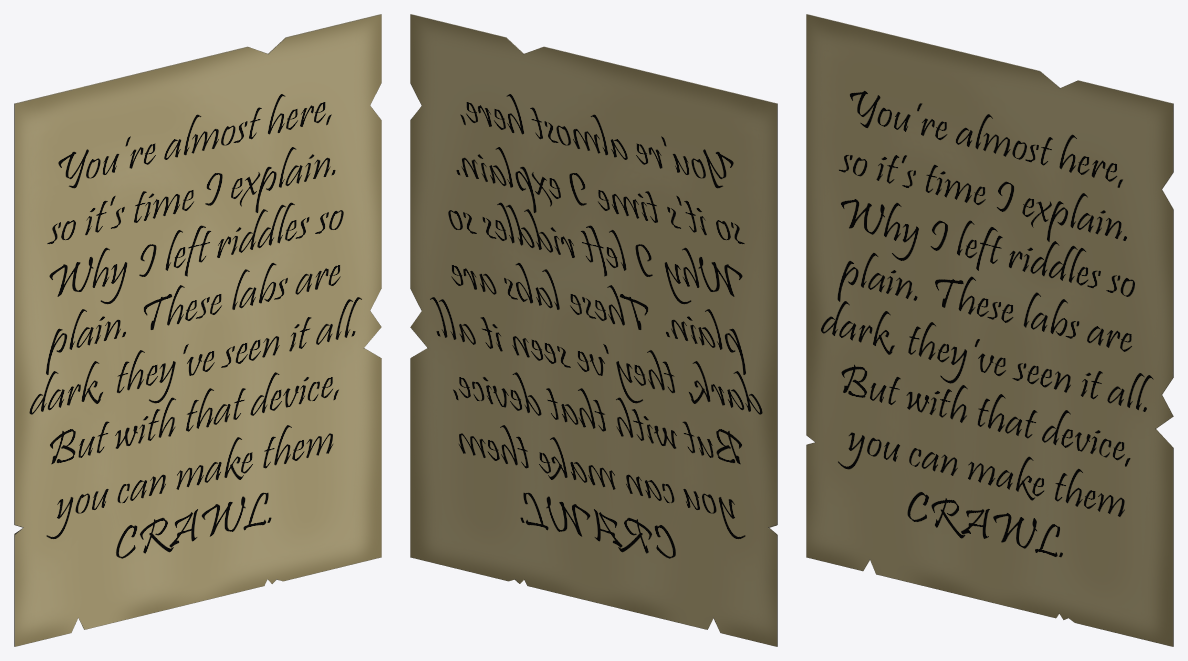
The model's file is p_note_6.fbx.
3 renders of one model, left to right at view 1: azimuth 30°, elevation 25°; view 2: azimuth 150°, elevation 25°; view 3: azimuth 330°, elevation 25°, orthographic.
Parts seen in each view (by area): view 1: pCube1; view 2: pCube1; view 3: pCube1.
Boxes of the visible parts, box(x1,y1,x2,y2) form: pCube1: box(14, 14, 381, 646); pCube1: box(410, 14, 777, 646); pCube1: box(806, 14, 1173, 646).
Bounding box in the file's own units: 42 × 59.4 × 0.1135.
